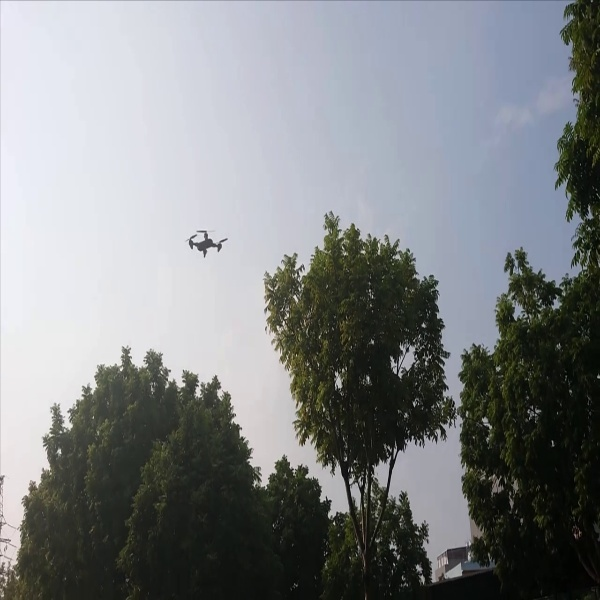drone: (181, 219, 229, 263)
